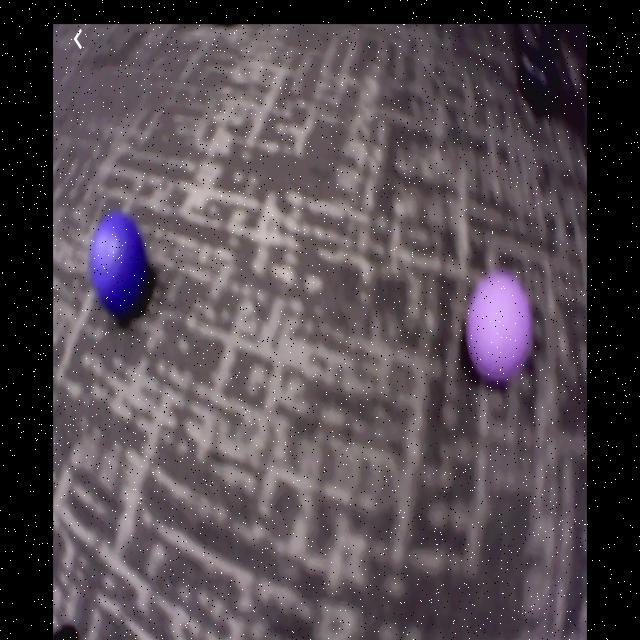ball: (469, 271, 534, 385), (92, 213, 148, 319)
